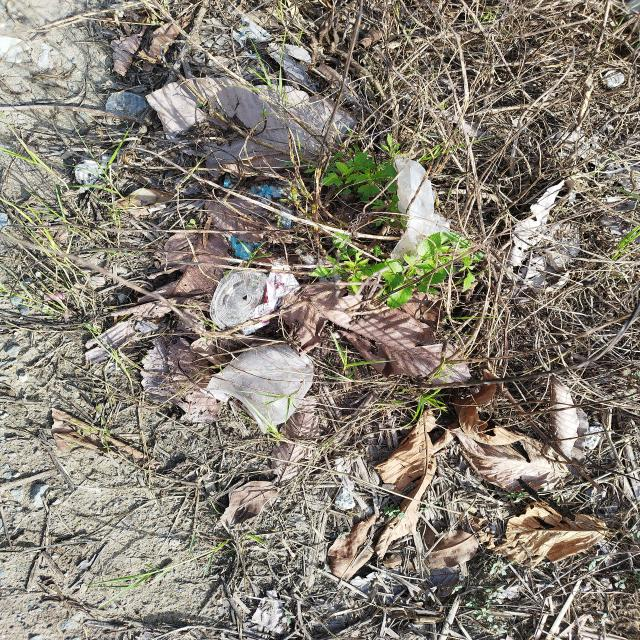bag: (390, 153, 455, 262)
lid: (209, 269, 269, 330)
